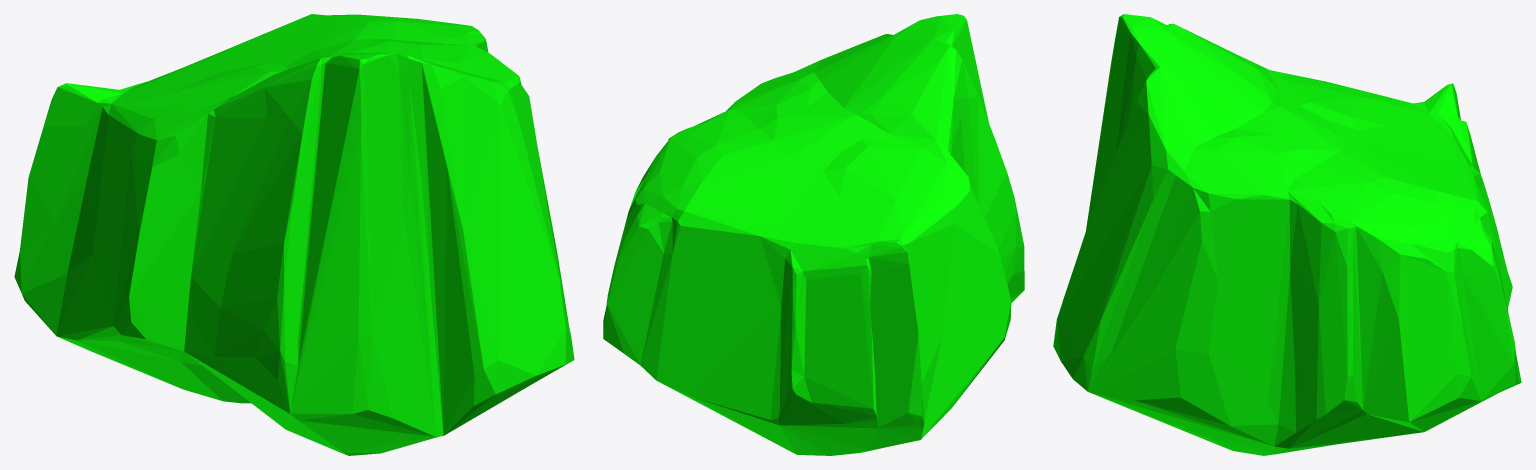
The model's file is SM_Iceberg_Small_F_Rock.fbx.
3 renders of one model, left to right at view 1: azimuth 30°, elevation 25°; view 2: azimuth 150°, elevation 25°; view 3: azimuth 270°, elevation 25°, orthographic. The views are drawn at different scales.
Parts seen in each view (by area): view 1: SM_Iceberg_Small_F_Rock; view 2: SM_Iceberg_Small_F_Rock; view 3: SM_Iceberg_Small_F_Rock.
Part boxes in pixels (box(x1,y1,x2,y2)): SM_Iceberg_Small_F_Rock: box(14, 14, 574, 455); SM_Iceberg_Small_F_Rock: box(603, 14, 1024, 455); SM_Iceberg_Small_F_Rock: box(1053, 14, 1521, 455).
Size of the model in its own units: 5.26 by 5.25 by 5.59.
